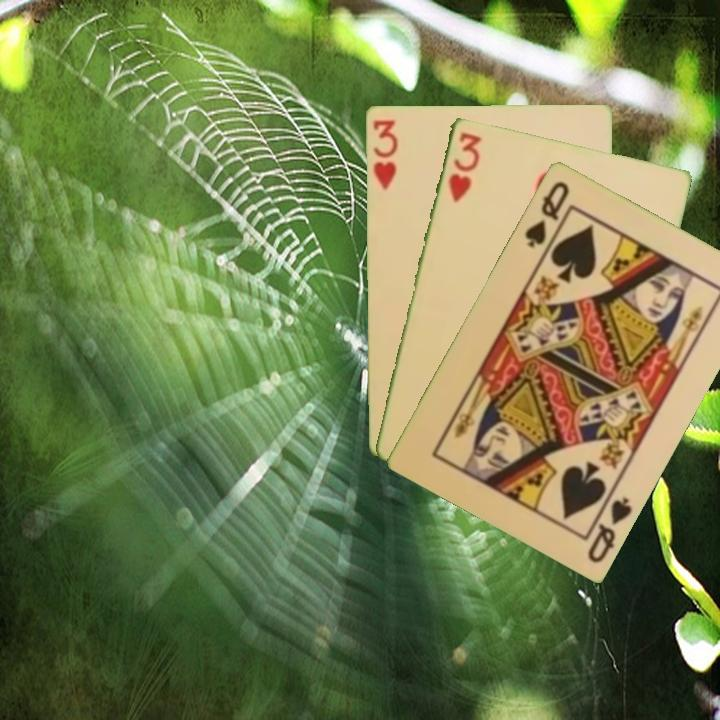3h: (444, 128, 484, 205), (368, 115, 401, 192)
Qs: (583, 493, 635, 566), (521, 177, 572, 250)
